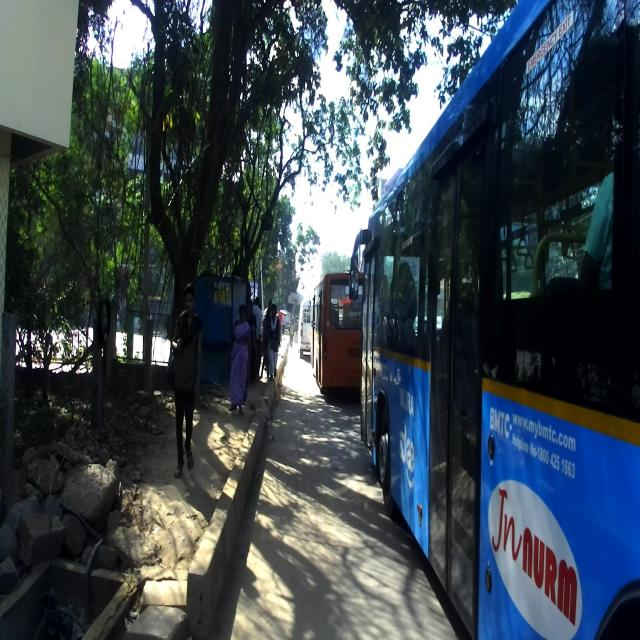bus: (348, 0, 639, 639)
